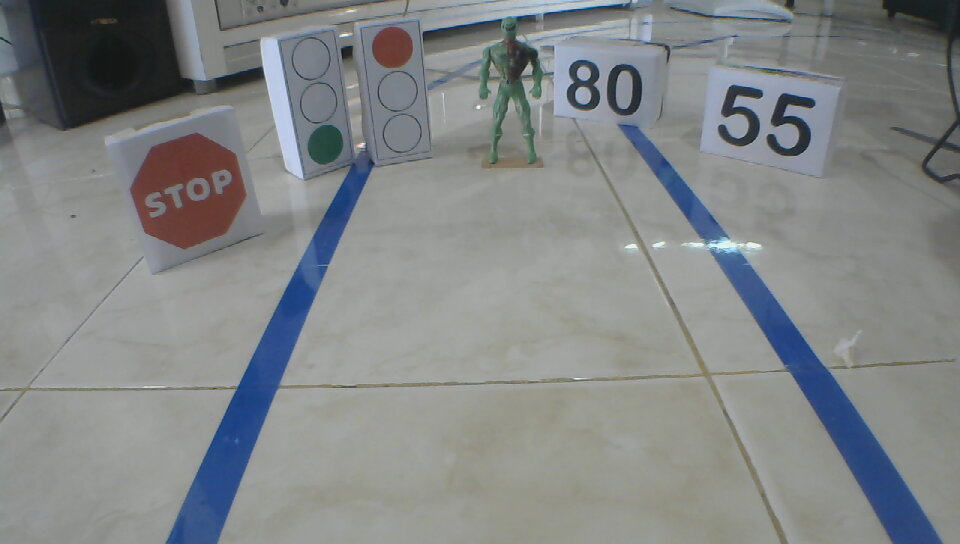Green Light: (290, 36, 345, 166)
Person: (477, 15, 544, 165)
Red Light: (372, 25, 423, 153)
Speed 55: (716, 83, 818, 157)
Speed 80: (563, 57, 645, 118)
Stop: (129, 131, 247, 249)
